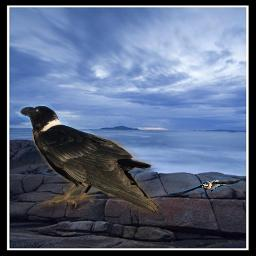Crow: (18, 102, 159, 213)
Swallow: (168, 176, 243, 195)
